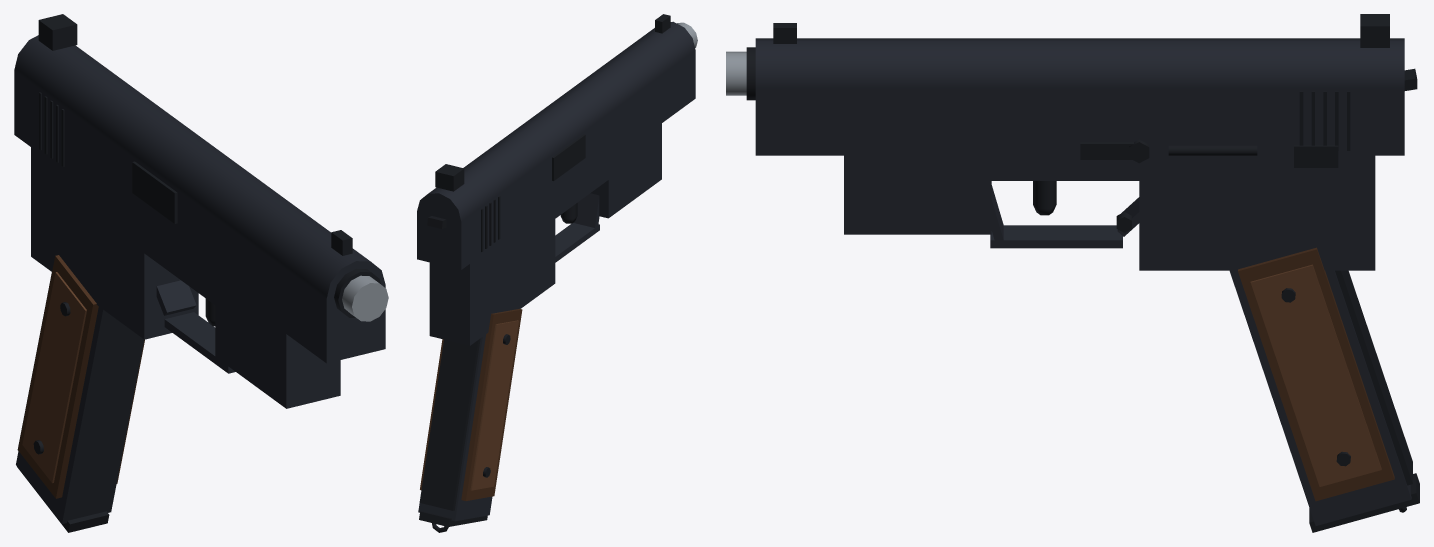
3 renders of one model, left to right at view 1: azimuth 30°, elevation 25°; view 2: azimuth 150°, elevation 25°; view 3: azimuth 270°, elevation 25°, orthographic. The views are drawn at different scales.
Parts seen in each view (by area): view 1: Mesh_SlideTop, Mesh_SlideBase, Mesh_FrameRear, Mesh_GripCore, Mesh_FrameDust, Mesh_InlayR, Mesh_PanelR, Mesh_FrameRail, Mesh_BarrelTip, Mesh_GuardB, Mesh_EjectionPort, Mesh_RearSight (+4 smaller); view 2: Mesh_SlideTop, Mesh_SlideBase, Mesh_FrameRear, Mesh_Backstrap, Mesh_InlayR, Mesh_FrameDust, Mesh_PanelR, Mesh_GripCore, Mesh_FrameRail, Mesh_GuardB, Mesh_EjectionPort, Mesh_GuardF (+3 smaller); view 3: Mesh_SlideBase, Mesh_SlideTop, Mesh_FrameRear, Mesh_InlayL, Mesh_FrameDust, Mesh_GripCore, Mesh_PanelL, Mesh_FrameRail, Mesh_Backstrap, Mesh_GuardB, Mesh_ThumbSafety, Mesh_RearSight (+4 smaller).
Boxes of the visible parts, x1,y1,x2,y2 form: Mesh_SlideTop: (14, 35, 385, 322); Mesh_SlideBase: (14, 71, 385, 363); Mesh_FrameRear: (31, 147, 198, 339); Mesh_GripCore: (16, 306, 144, 523); Mesh_FrameDust: (215, 282, 340, 408); Mesh_InlayR: (22, 272, 86, 483); Mesh_PanelR: (18, 255, 98, 498); Mesh_FrameRail: (144, 230, 215, 304); Mesh_BarrelTip: (342, 275, 388, 321); Mesh_GuardB: (164, 312, 235, 373); Mesh_EjectionPort: (132, 161, 177, 223); Mesh_RearSight: (38, 14, 77, 50); Mesh_SlideTop: (417, 21, 695, 239); Mesh_SlideBase: (417, 50, 695, 269); Mesh_FrameRear: (429, 201, 555, 345); Mesh_Backstrap: (419, 338, 480, 510); Mesh_InlayR: (470, 320, 518, 490); Mesh_FrameDust: (590, 123, 661, 218); Mesh_PanelR: (461, 308, 522, 500); Mesh_GripCore: (418, 334, 492, 521); Mesh_FrameRail: (555, 162, 608, 218); Mesh_GuardB: (555, 223, 599, 262); Mesh_EjectionPort: (552, 134, 585, 180); Mesh_GuardF: (573, 193, 599, 229); Mesh_SlideBase: (755, 88, 1404, 155); Mesh_SlideTop: (755, 38, 1404, 88); Mesh_FrameRear: (1139, 155, 1375, 270); Mesh_InlayL: (1250, 264, 1381, 486); Mesh_FrameDust: (844, 155, 991, 234); Mesh_GripCore: (1229, 270, 1411, 525); Mesh_PanelL: (1238, 247, 1394, 501); Mesh_FrameRail: (991, 155, 1139, 180); Mesh_Backstrap: (1335, 270, 1412, 485); Mesh_GuardB: (990, 225, 1122, 248); Mesh_ThumbSafety: (1294, 145, 1338, 167); Mesh_RearSight: (1360, 14, 1389, 47).
Bounding box in the file's own units: 0.0292 × 0.188 × 0.2351.
